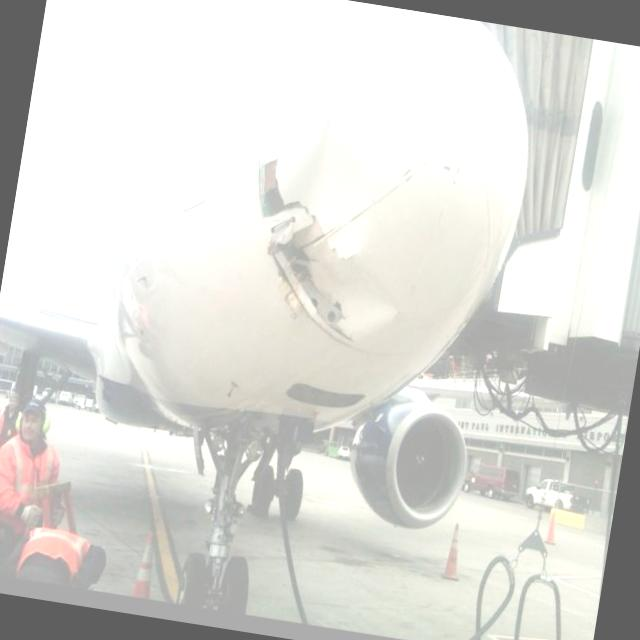dent: (270, 106, 379, 257), (312, 254, 408, 342)
